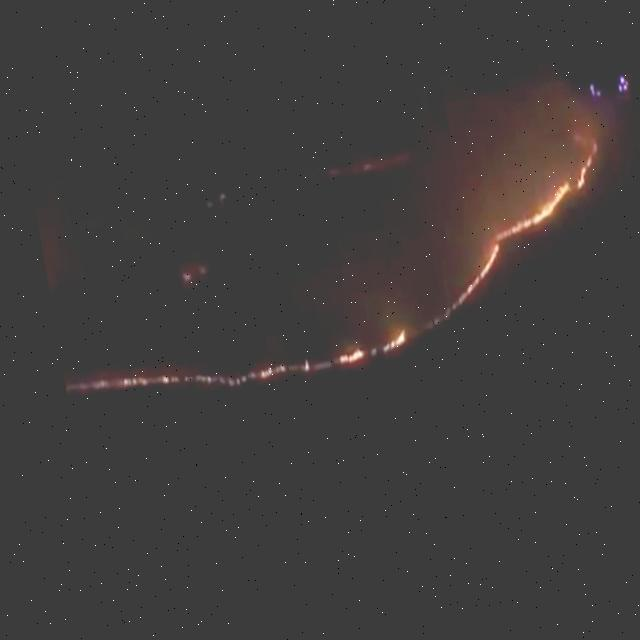Fire: (479, 199, 564, 256), (446, 258, 492, 310), (564, 176, 588, 207), (367, 338, 393, 361), (326, 354, 352, 374)
